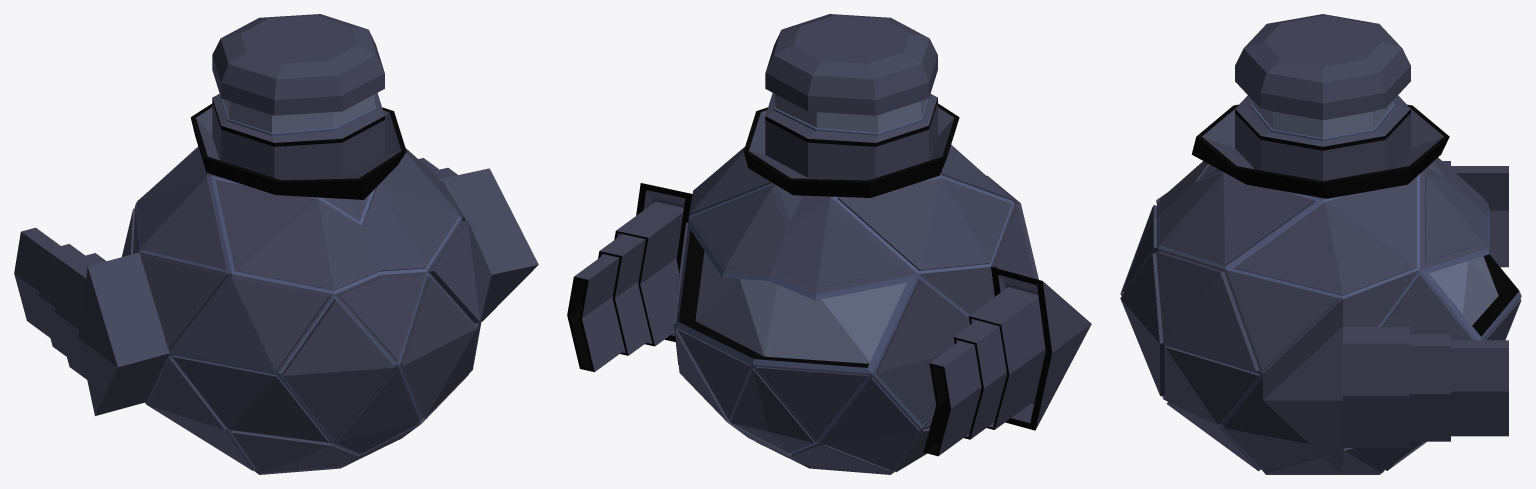
Rendered from dronejam.fbx.
3 views of the same model, side by side, from view 1: azimuth 30°, elevation 25°; view 2: azimuth 150°, elevation 25°; view 3: azimuth 270°, elevation 25° (orthographic).
Parts seen in each view (by area): view 1: Icosphere.001; view 2: Icosphere.001; view 3: Icosphere.001.
Boxes of the visible parts, x1=… form: Icosphere.001: x1=14, y1=14, x2=538, y2=474; Icosphere.001: x1=567, y1=14, x2=1091, y2=474; Icosphere.001: x1=1120, y1=14, x2=1521, y2=474.
Bounding box in the file's own units: 252 × 228 × 207.
